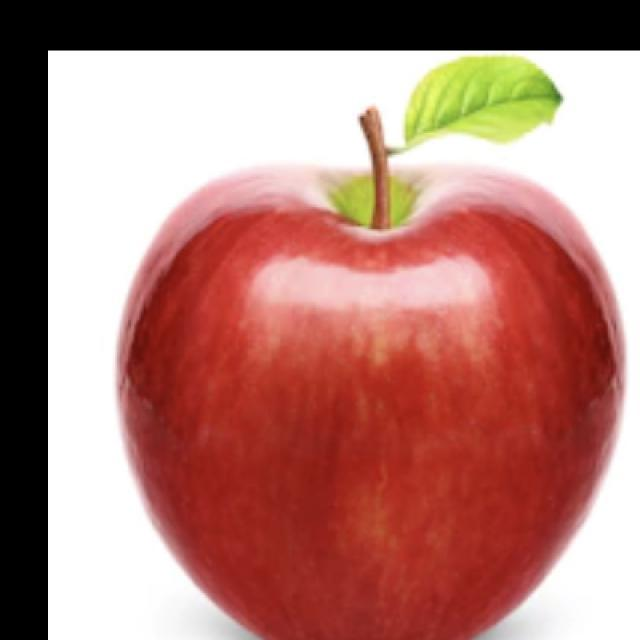Fresh Apple: (116, 171, 640, 640)
